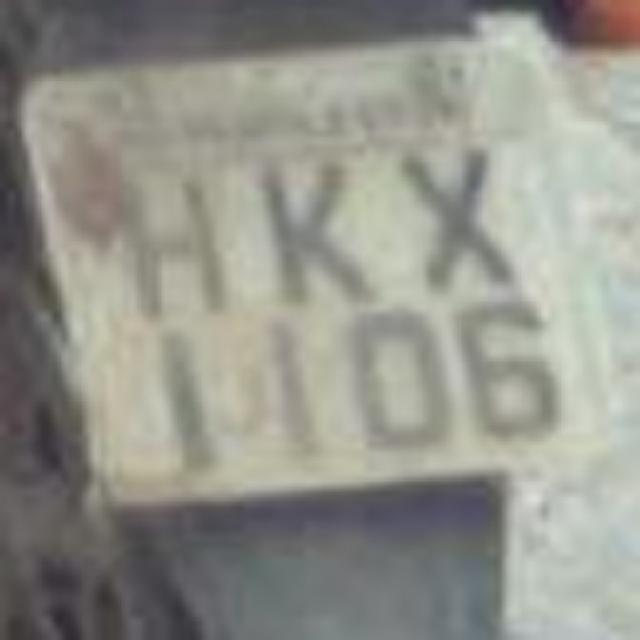0: (332, 300, 456, 475)
1: (244, 316, 336, 464)
3: (496, 468, 624, 632)
6: (436, 296, 569, 476)
H: (120, 144, 232, 311)
K: (251, 140, 384, 315)
